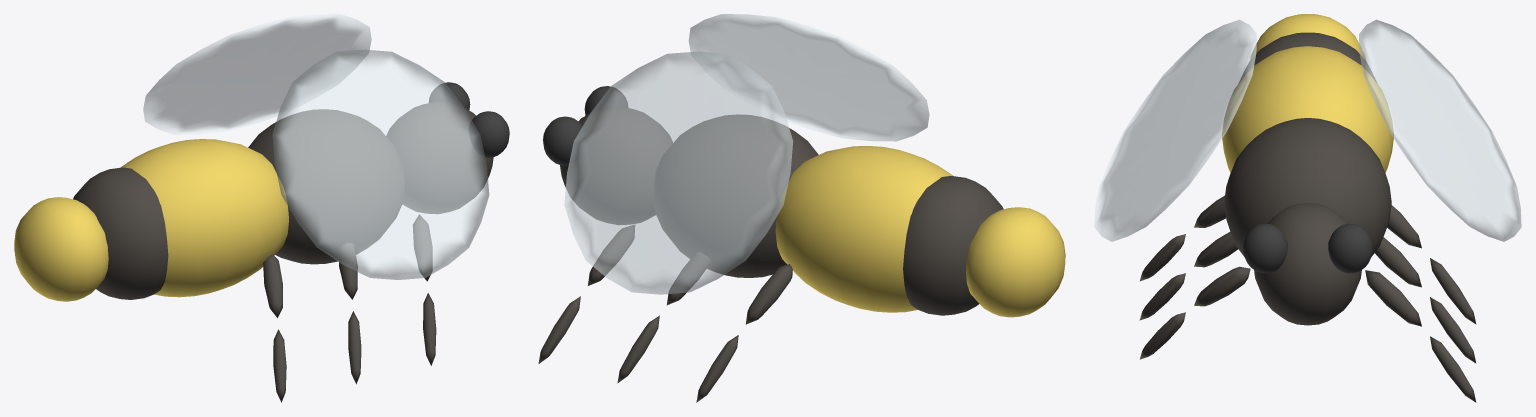
The model's file is bee.glb.
3 views of the same model, side by side, from view 1: azimuth 30°, elevation 25°; view 2: azimuth 150°, elevation 25°; view 3: azimuth 270°, elevation 25° (orthographic). The views are drawn at different scales.
Parts seen in each view (by area): view 1: org_bee; view 2: org_bee; view 3: org_bee.
Part boxes in pixels (left/top/right/bottom): org_bee: left=14, top=14, right=509, bottom=402; org_bee: left=538, top=14, right=1065, bottom=402; org_bee: left=1094, top=14, right=1521, bottom=402.
Size of the model in its own units: 0.2181 by 0.127 by 0.1615.
